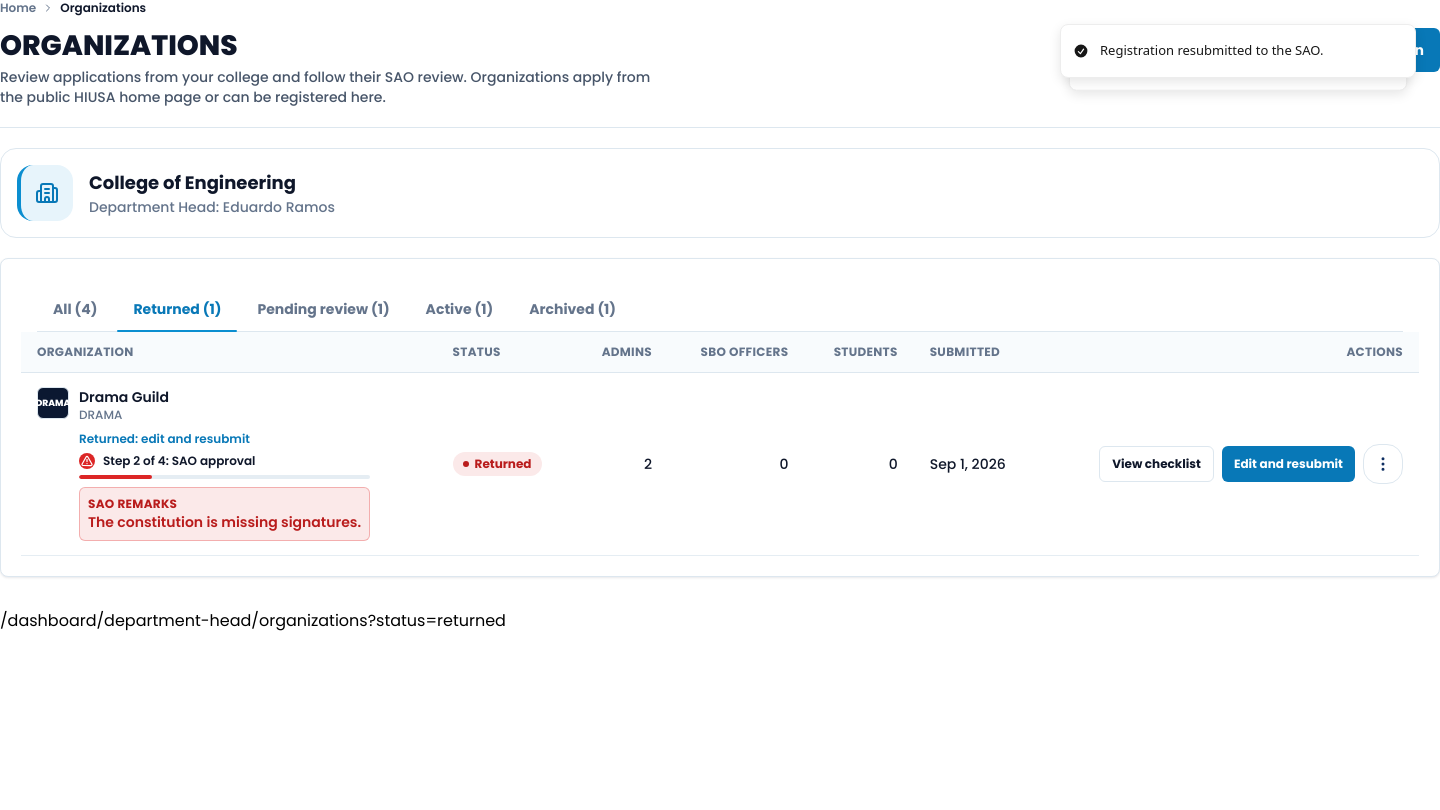
Test: CollegeOrganizationsPage › moves from the Returned tab to Pending review once the registration is resubmitted
Click the button named "Actions for Drama Guild": point(1383, 464) x1=1363 y1=444 x2=1403 y2=484
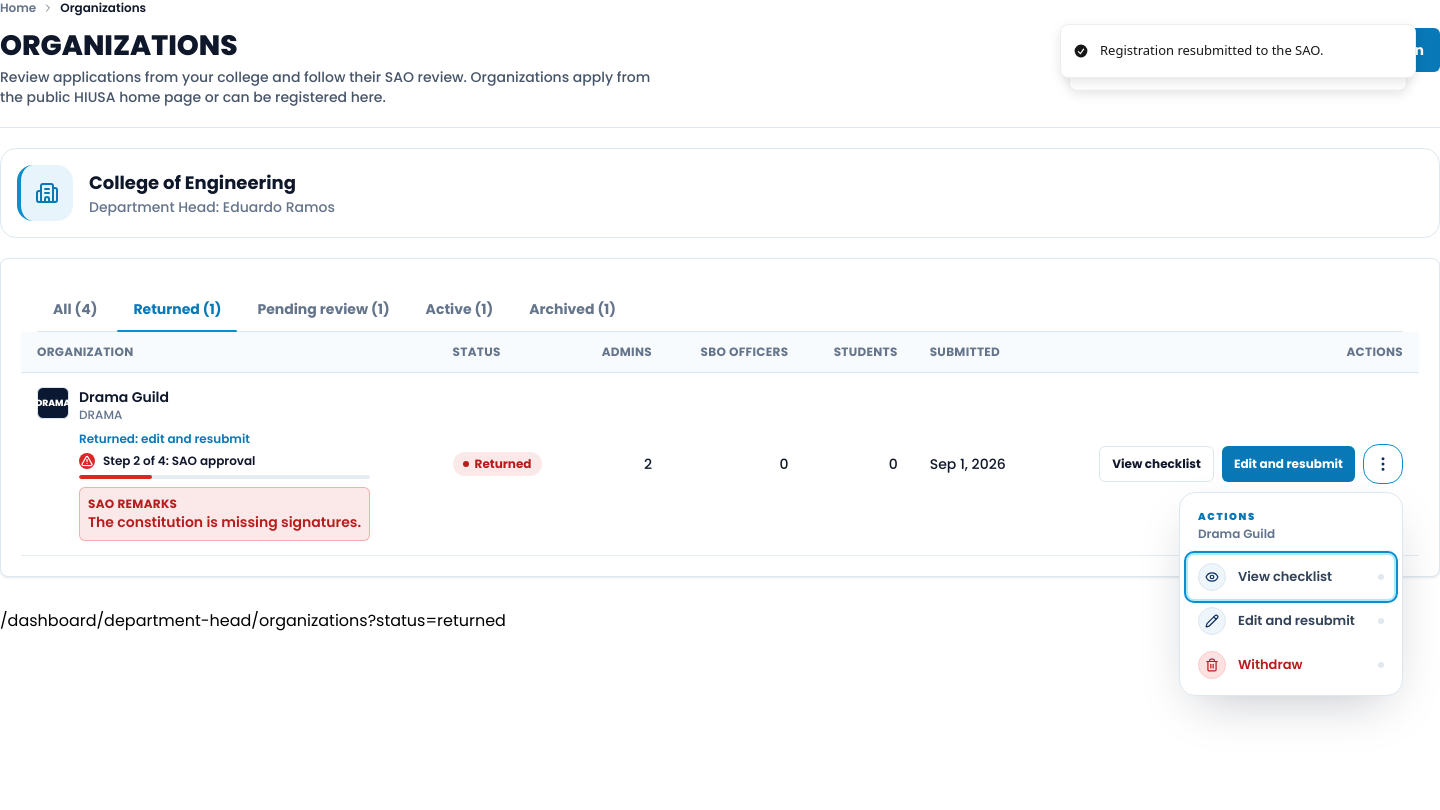
Click the menu item "Edit and resubmit": point(1291, 621) x1=1188 y1=599 x2=1394 y2=643
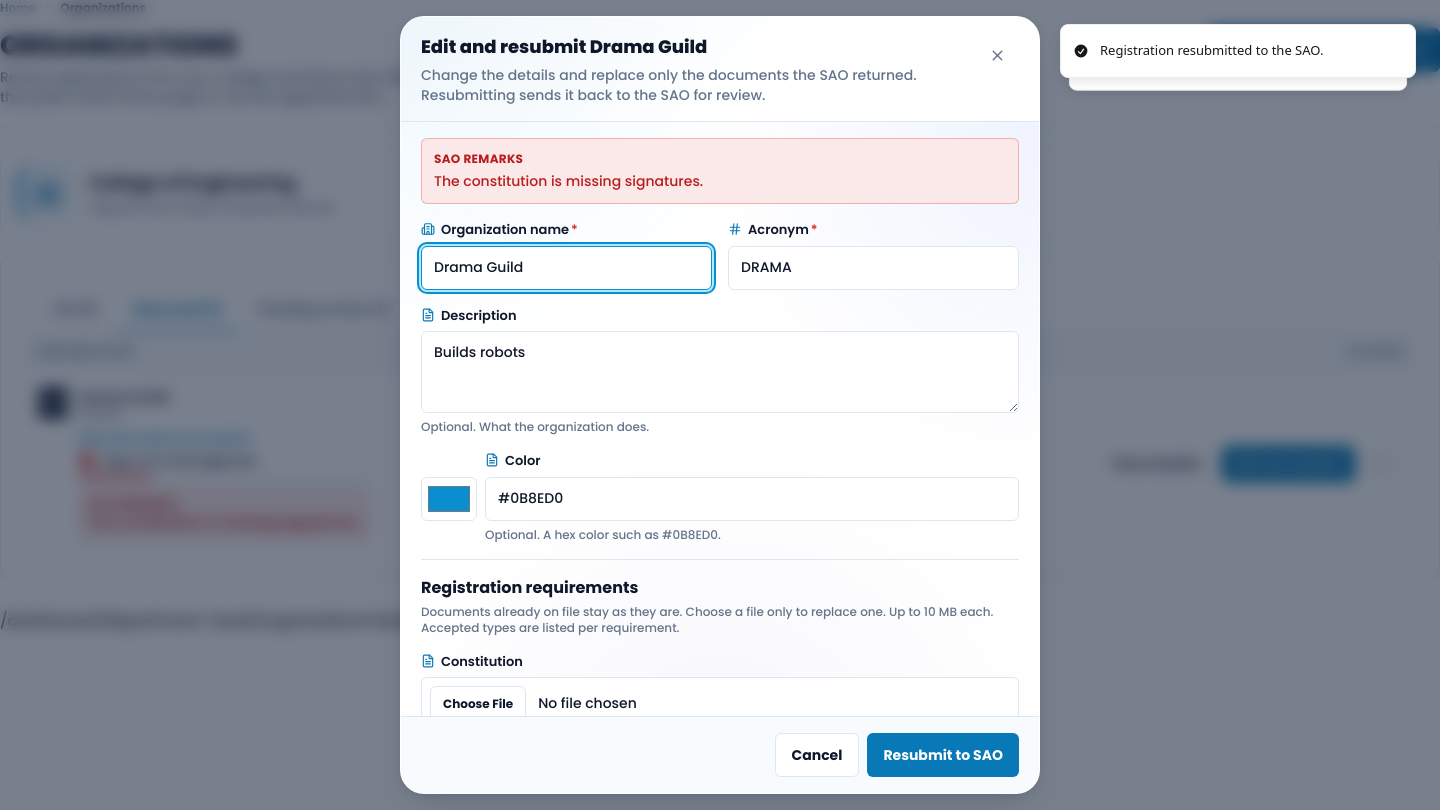
Click the button "Resubmit to SAO": point(943, 755) x1=867 y1=733 x2=1019 y2=777
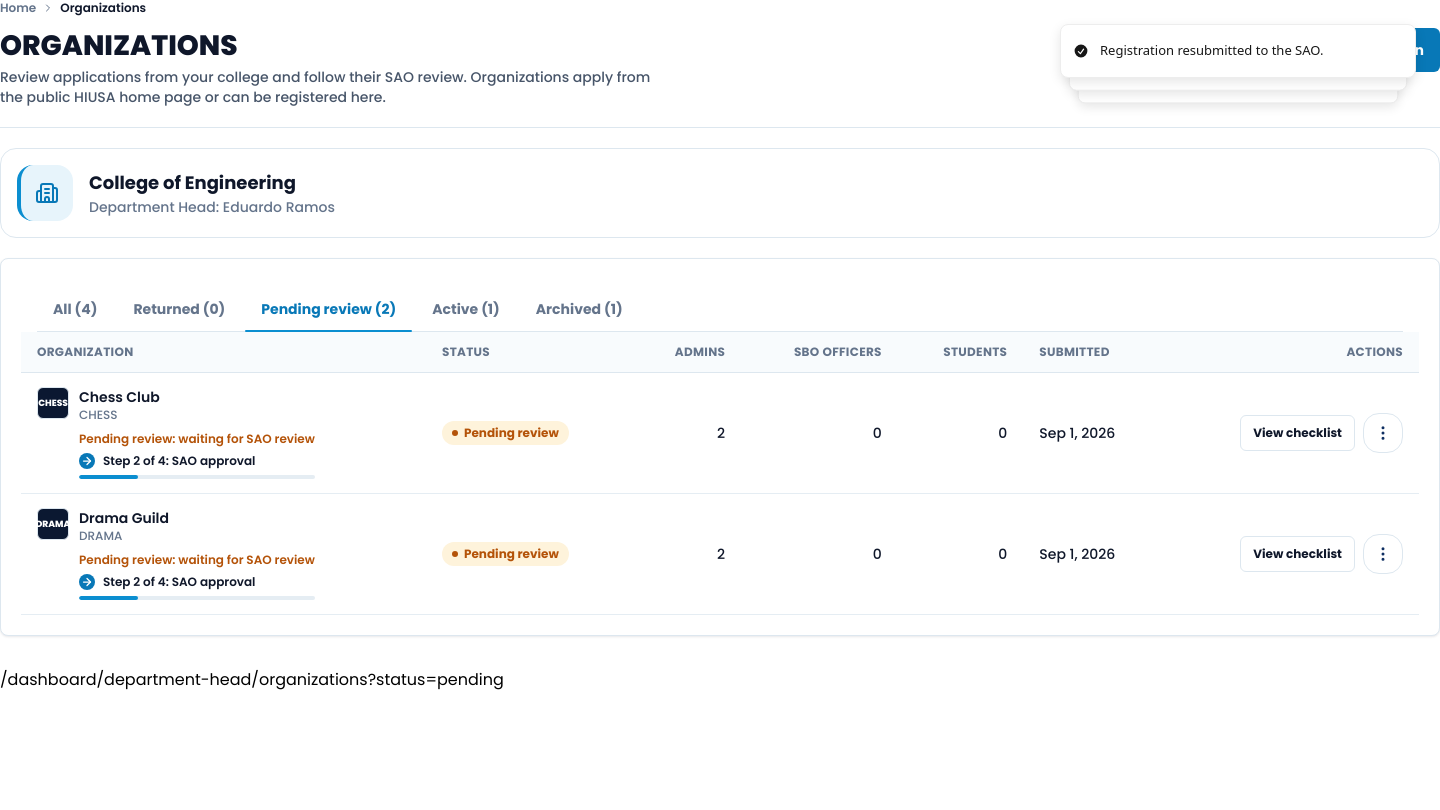
Expected: the text with test id "location" shows "?status=pending", x1=368 y1=668 x2=504 y2=691
Expected: the text "Pending review: waiting for SAO review" below "Drama Guild" is shown, x1=79 y1=551 x2=315 y2=568
